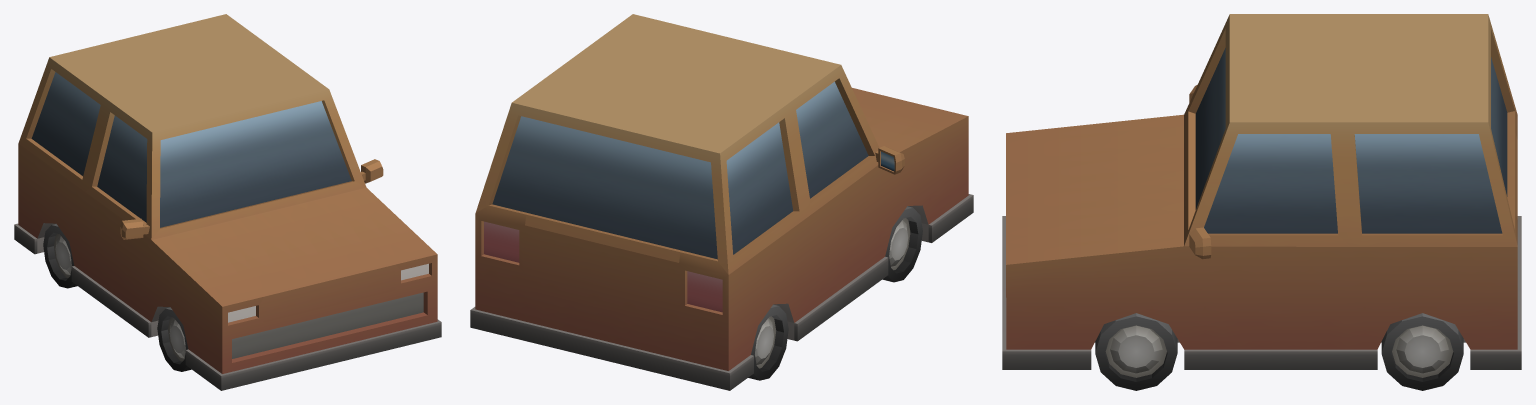
File: Car_01_03_FBX.fbx
The picture shows the model from 3 angles, left to right: view 1: azimuth 30°, elevation 25°; view 2: azimuth 150°, elevation 25°; view 3: azimuth 270°, elevation 25°; orthographic projection. The views are drawn at different scales.
Visible parts, largest first — view 1: pCube157; view 2: pCube157; view 3: pCube157.
Boxes of the visible parts, left/top/right/bottom form: pCube157: left=14, top=14, right=441, bottom=390; pCube157: left=470, top=14, right=973, bottom=390; pCube157: left=1002, top=14, right=1521, bottom=390.
Size of the model in its own units: 236 by 180 by 327.
